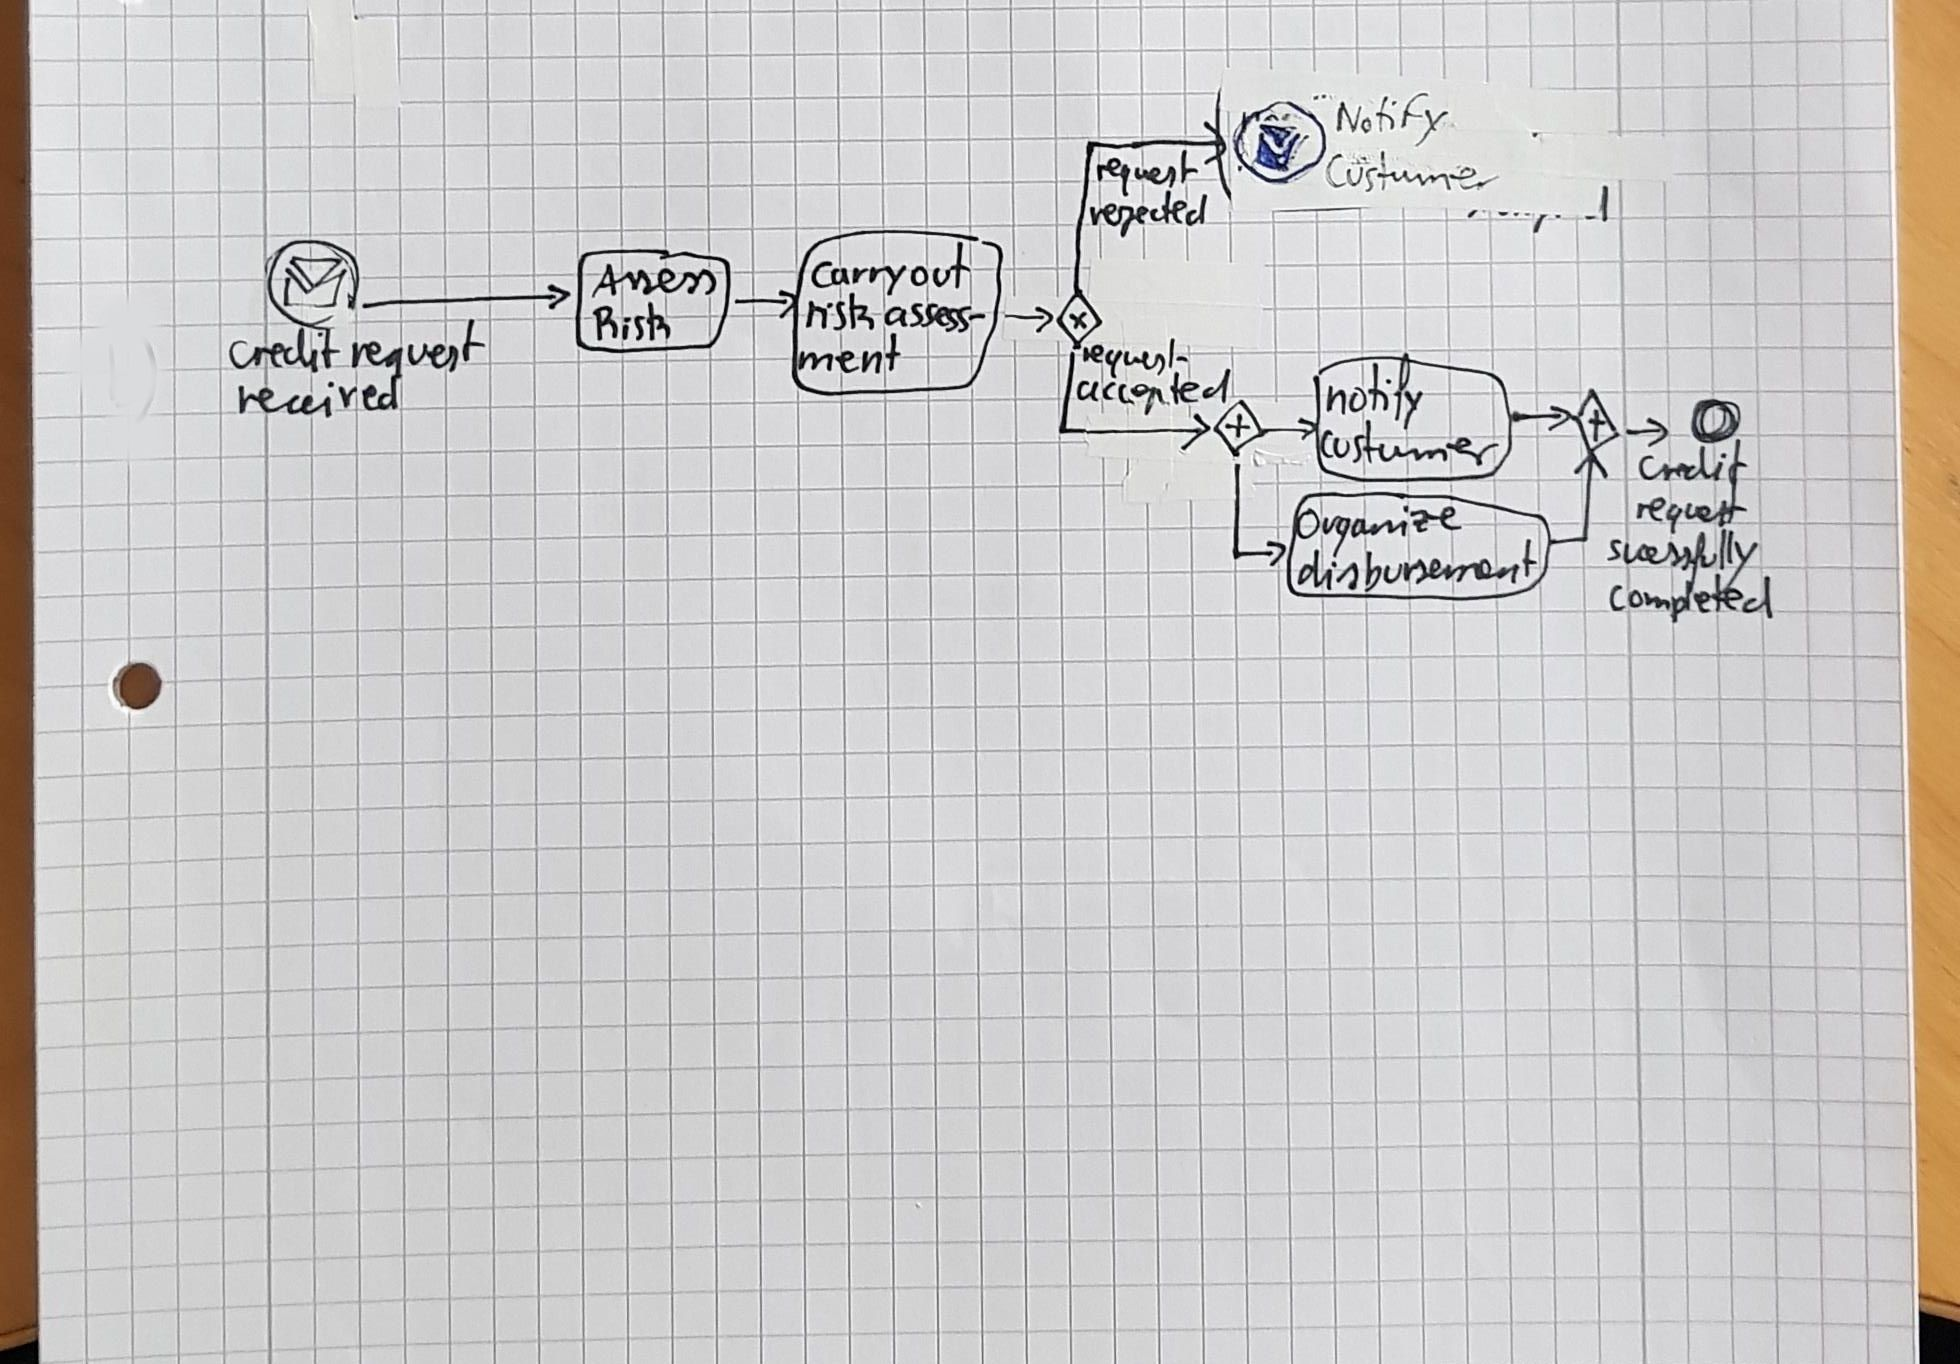Assess: (582, 256, 724, 307)
Custumer: (1317, 141, 1506, 200)
Notify: (1327, 83, 1457, 153)
Organize: (1288, 499, 1469, 561)
Risk: (585, 295, 678, 348)
accepted: (1069, 360, 1238, 423)
assess-: (879, 295, 993, 340)
carry: (804, 253, 911, 302)
completed: (1601, 567, 1780, 630)
credit: (220, 320, 347, 381), (1632, 432, 1754, 488)
custumer: (1315, 414, 1504, 474)
disbursement: (1290, 532, 1544, 597)
ment: (791, 326, 906, 383)
notify: (1320, 345, 1428, 436)
out: (904, 232, 976, 296)
received: (229, 366, 407, 424)
rejected: (1080, 183, 1215, 246)
request: (343, 310, 493, 387), (1087, 141, 1205, 203), (1075, 331, 1196, 386), (1629, 491, 1753, 541)
risk: (798, 286, 882, 338)
sucessfully: (1601, 523, 1765, 591)
